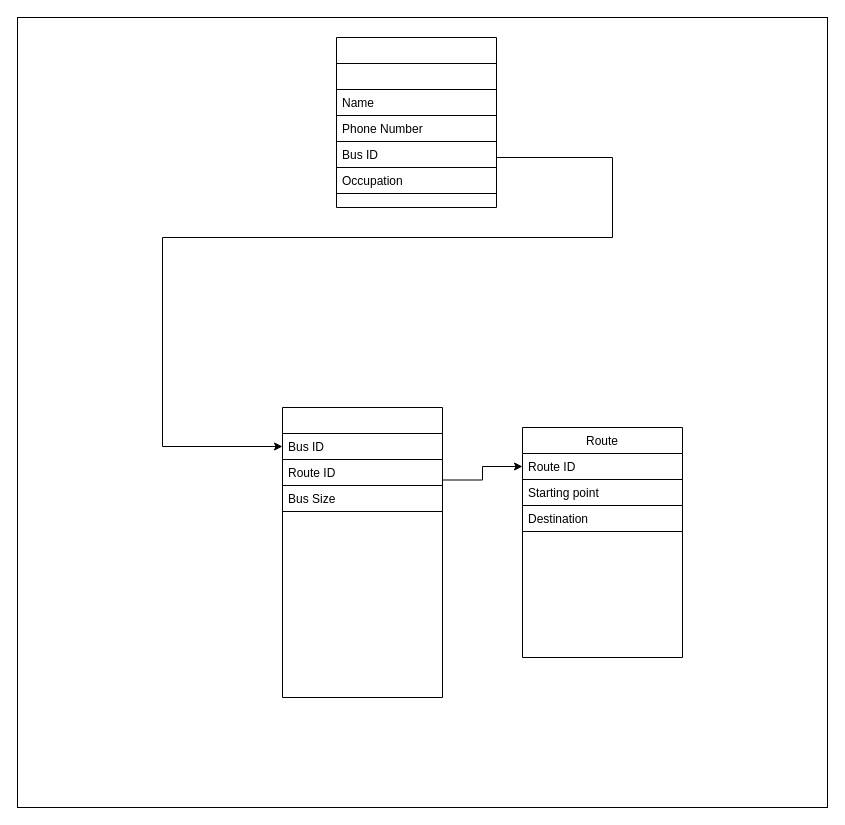
The diagram is 845 pixels wide and 825 high, and some of its shapes have lost their labels. Each missing label, with the box of its shape:
Bus Info: (282, 406, 442, 698)
Bus Personnel: (336, 36, 496, 208)
ID: (336, 62, 496, 90)
